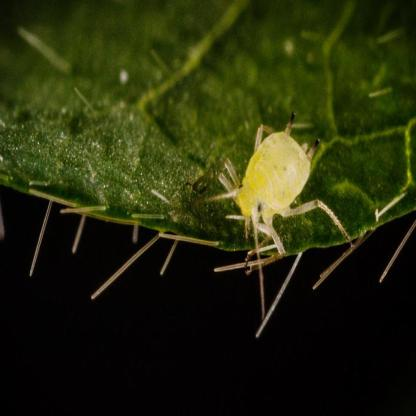aphid: (216, 111, 334, 269)
